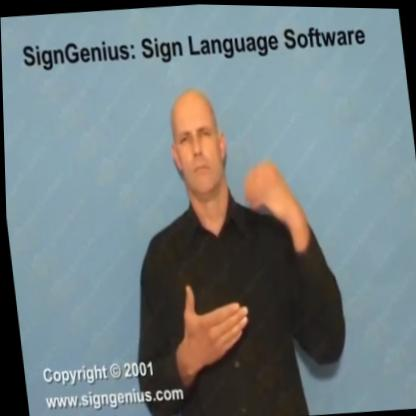Expensive: (158, 152, 328, 374)
